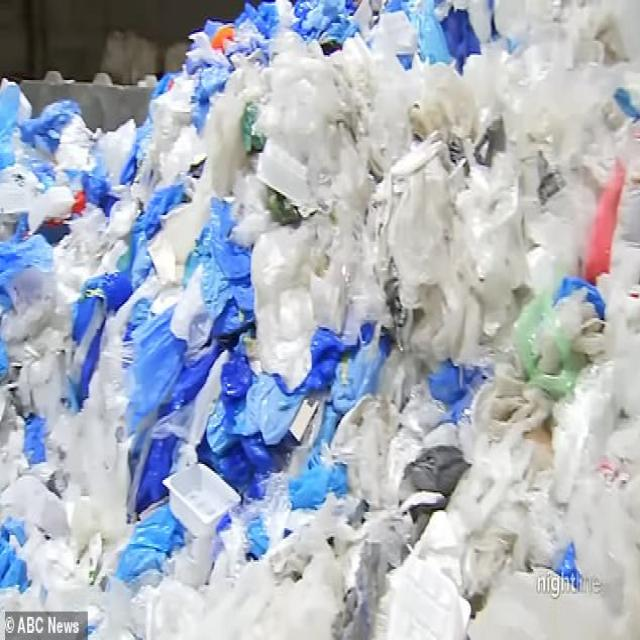plastic_bag: (0, 0, 639, 631)
